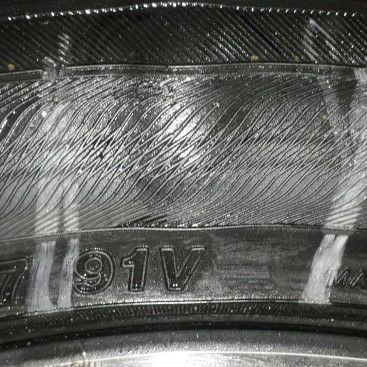CBU: (124, 51, 255, 202)
